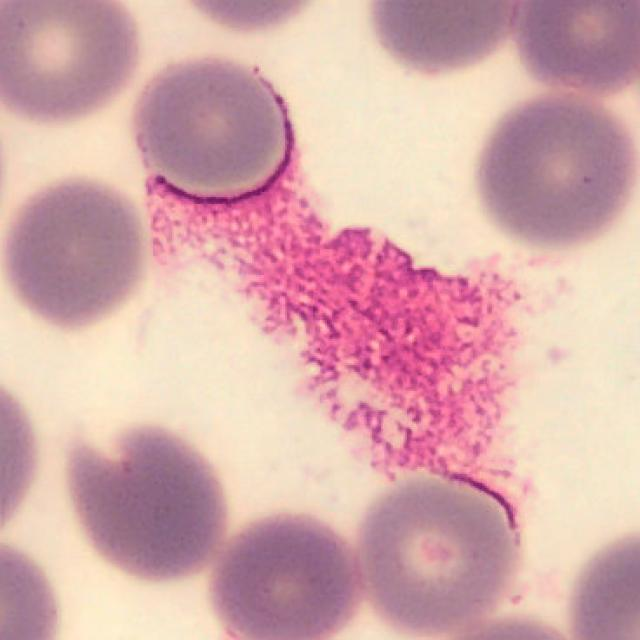Artefato: (146, 126, 527, 528)
